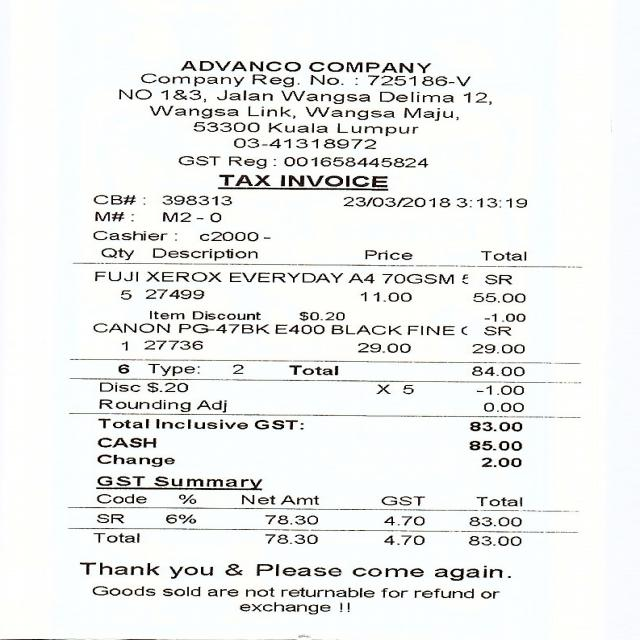text: (232, 137, 374, 149), (152, 475, 260, 490), (282, 156, 427, 167), (153, 246, 258, 260), (307, 61, 429, 73), (98, 398, 189, 414), (140, 73, 243, 86), (179, 60, 300, 71), (280, 175, 386, 187), (304, 106, 393, 120), (366, 74, 469, 86), (238, 601, 329, 614), (342, 196, 449, 207), (280, 90, 369, 103), (150, 105, 238, 118), (336, 122, 416, 136), (230, 272, 342, 282), (256, 563, 340, 576), (434, 564, 502, 580), (156, 418, 246, 429), (78, 562, 158, 574), (474, 494, 524, 513), (96, 454, 174, 466), (281, 587, 373, 597), (177, 323, 268, 333), (380, 273, 466, 283), (93, 230, 175, 240), (378, 91, 452, 102), (199, 230, 269, 241), (143, 271, 220, 281), (92, 322, 168, 332), (161, 194, 230, 205), (192, 121, 258, 132), (403, 107, 457, 120), (330, 324, 400, 334), (352, 566, 422, 576), (456, 197, 525, 207), (92, 585, 154, 596), (191, 310, 259, 320), (405, 324, 466, 335), (218, 173, 269, 186), (251, 73, 298, 87), (268, 122, 326, 133), (162, 211, 220, 222), (144, 288, 202, 299), (216, 89, 271, 100), (142, 340, 201, 350), (95, 437, 154, 447), (413, 588, 472, 598), (470, 342, 523, 353), (92, 531, 140, 543), (357, 342, 409, 353), (286, 364, 338, 375), (97, 417, 149, 428), (264, 514, 316, 525), (264, 533, 316, 544), (168, 565, 212, 578), (95, 245, 133, 260), (146, 364, 197, 375), (472, 365, 523, 376), (466, 535, 522, 545), (161, 89, 204, 102), (248, 106, 294, 118), (482, 248, 528, 260), (273, 323, 323, 334), (467, 421, 521, 431), (467, 440, 521, 450), (467, 516, 521, 526), (96, 475, 144, 486), (92, 194, 144, 204), (94, 493, 146, 503), (365, 249, 412, 260), (359, 291, 410, 301), (298, 310, 343, 321), (253, 419, 302, 429), (476, 384, 522, 394), (473, 293, 524, 302), (227, 156, 265, 168), (482, 402, 523, 413), (480, 456, 520, 467), (176, 155, 219, 165), (93, 271, 136, 281), (99, 382, 139, 392), (383, 534, 423, 544), (162, 585, 198, 596), (147, 382, 186, 392), (195, 399, 225, 412), (381, 496, 424, 505), (94, 211, 132, 221), (280, 494, 317, 504), (462, 92, 490, 105), (376, 384, 412, 394), (383, 516, 423, 525), (308, 74, 342, 84), (149, 309, 183, 319), (240, 494, 274, 504), (118, 89, 150, 99), (164, 513, 194, 523), (484, 273, 511, 284), (491, 312, 524, 321), (244, 586, 273, 596), (482, 324, 508, 335), (95, 513, 123, 523), (379, 587, 407, 597), (346, 273, 373, 283), (206, 588, 236, 596), (224, 564, 242, 575), (177, 493, 194, 504), (480, 590, 498, 598), (117, 363, 128, 373), (119, 290, 130, 299), (232, 364, 242, 373), (120, 340, 126, 350)
